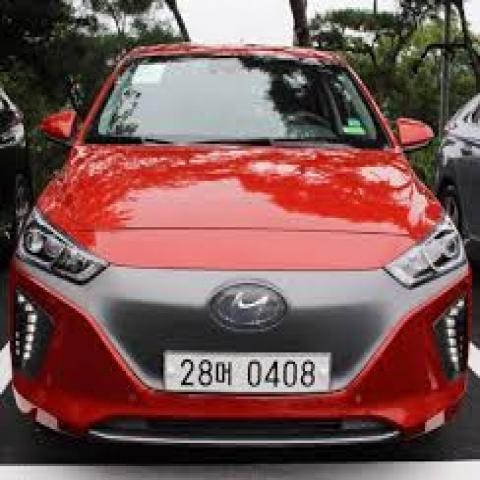LP: (157, 342, 334, 402)
